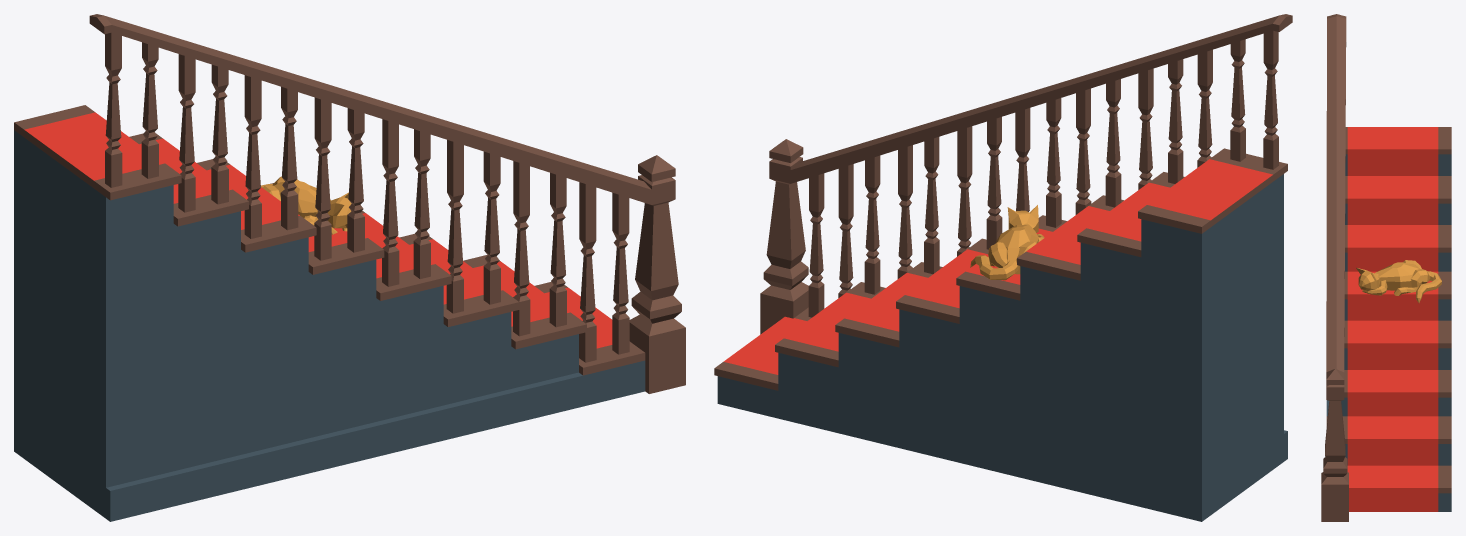
The model's file is Staircase with Cat by Don Carson - 1Y9uFSJi6-9.glb.
The picture shows the model from 3 angles, left to right: view 1: azimuth 30°, elevation 25°; view 2: azimuth 150°, elevation 25°; view 3: azimuth 270°, elevation 25°; orthographic projection. The views are drawn at different scales.
Visible parts, largest first — view 1: group844215916, group103850986, group1098594622, group117278113, group1980848390, group1665632145, group1478329267, group2056681863, group1192364937, group456316339, group2015231886, group1772241103 (+7 smaller); view 2: group844215916, group103850986, group1098594622, group1192364937, group914599521, group1772241103, group959309792, group117278113, group447059984, group1195920831, group1980848390, group1460905025 (+9 smaller); view 3: group844215916, group103850986, group1098594622, group1186151672, group340542565, group1251417462, group1284453457, group878275409.
Part boxes in pixels (x1,y1,x2,y2): group844215916: (14,105,645,521); group103850986: (89,14,651,204); group1098594622: (629,155,685,393); group117278113: (579,182,596,362); group1980848390: (513,161,530,336); group1665632145: (446,140,463,313); group1478329267: (382,119,399,286); group2056681863: (314,97,331,260); group1192364937: (612,192,629,354); group456316339: (244,75,261,238); group2015231886: (178,54,195,212); group1772241103: (105,32,122,187); group844215916: (714,148,1287,521); group103850986: (790,14,1292,183); group1098594622: (760,139,808,334); group1192364937: (808,173,824,317); group914599521: (864,155,880,294); group1772241103: (1263,30,1278,169); group959309792: (924,137,939,274); group117278113: (838,164,853,297); group447059984: (1046,98,1061,227); group1195920831: (1105,79,1121,207); group1980848390: (897,145,912,278); group1460905025: (986,117,1002,249); group844215916: (1326,127,1451,511); group103850986: (1326,14,1346,371); group1098594622: (1321,368,1348,521); group1186151672: (1375,262,1419,290); group340542565: (1394,269,1430,295); group1251417462: (1356,268,1380,291); group1284453457: (1416,271,1441,303); group878275409: (1362,280,1387,295).
Bounding box in the file's own units: 1.57 × 1.3 × 0.4715.
